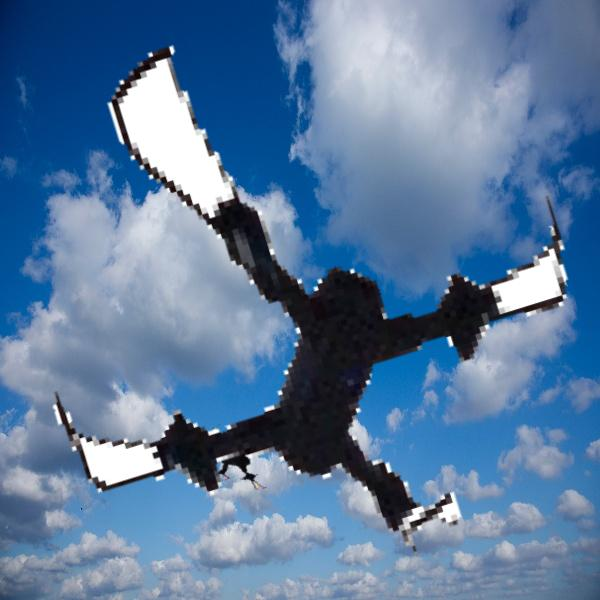drone: (1, 2, 594, 595), (208, 414, 291, 497)
